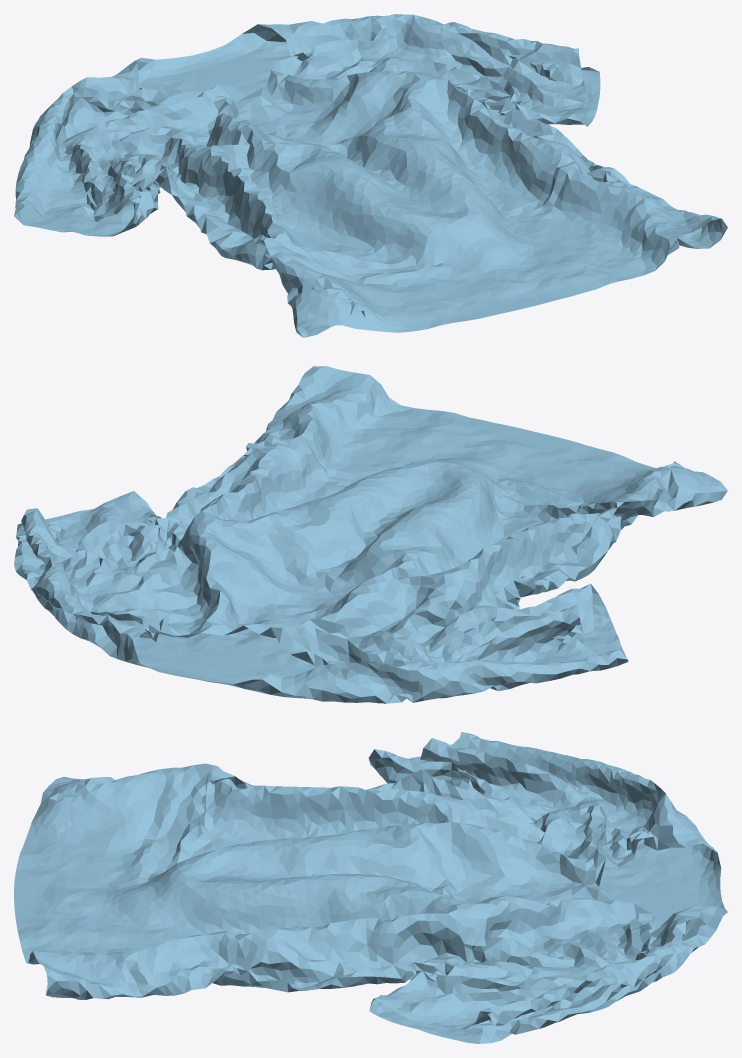
The model's file is frame_01.glb.
3 renders of one model, top to bottom at view 1: azimuth 30°, elevation 25°; view 2: azimuth 150°, elevation 25°; view 3: azimuth 270°, elevation 25°, orthographic. The views are drawn at different scales.
Visible parts, largest first — view 1: frame_01.obj; view 2: frame_01.obj; view 3: frame_01.obj.
Boxes of the visible parts, x1,y1,x2,y2 form: frame_01.obj: (14, 14, 727, 337); frame_01.obj: (14, 366, 727, 703); frame_01.obj: (14, 732, 727, 1043).
Size of the model in its own units: 1.72 by 0.1404 by 1.72.
